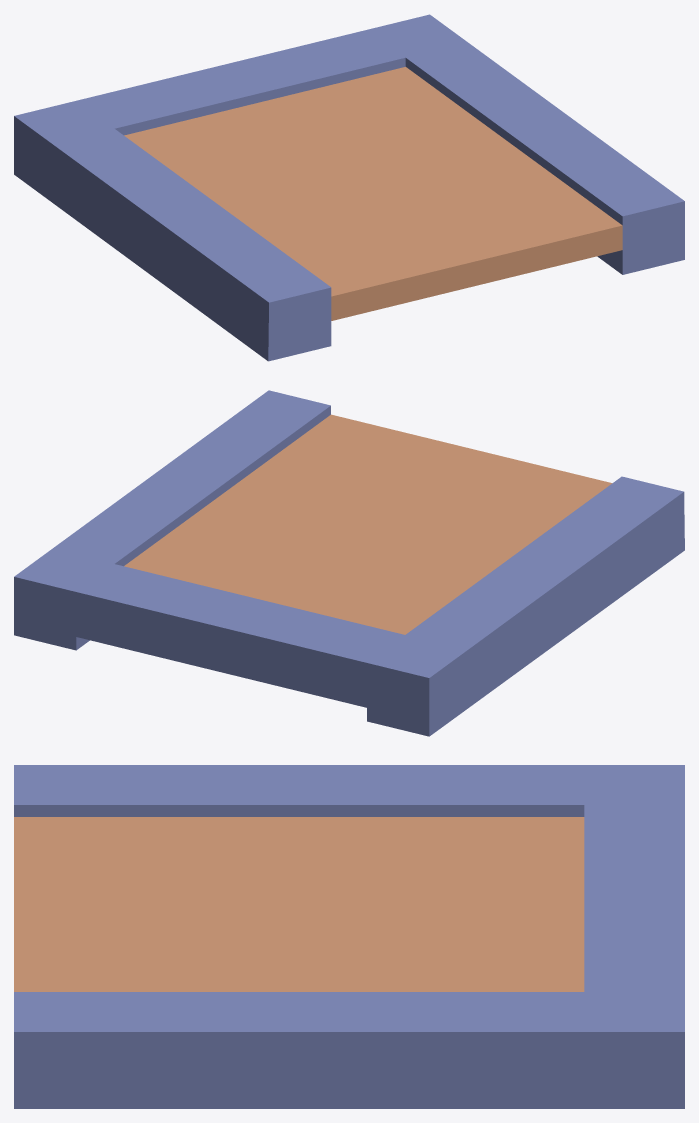
The model's file is bridge_2_part_4.fbx.
3 renders of one model, top to bottom at view 1: azimuth 30°, elevation 25°; view 2: azimuth 150°, elevation 25°; view 3: azimuth 270°, elevation 25°, orthographic. The views are drawn at different scales.
Visible parts, largest first — view 1: bridge_2_part_4; view 2: bridge_2_part_4; view 3: bridge_2_part_4.
Part boxes in pixels (x1,y1,x2,y2): bridge_2_part_4: [14, 14, 684, 361]; bridge_2_part_4: [14, 390, 684, 736]; bridge_2_part_4: [14, 765, 684, 1108].
Bounding box in the file's own units: 9.62 × 1.29 × 10.2.
